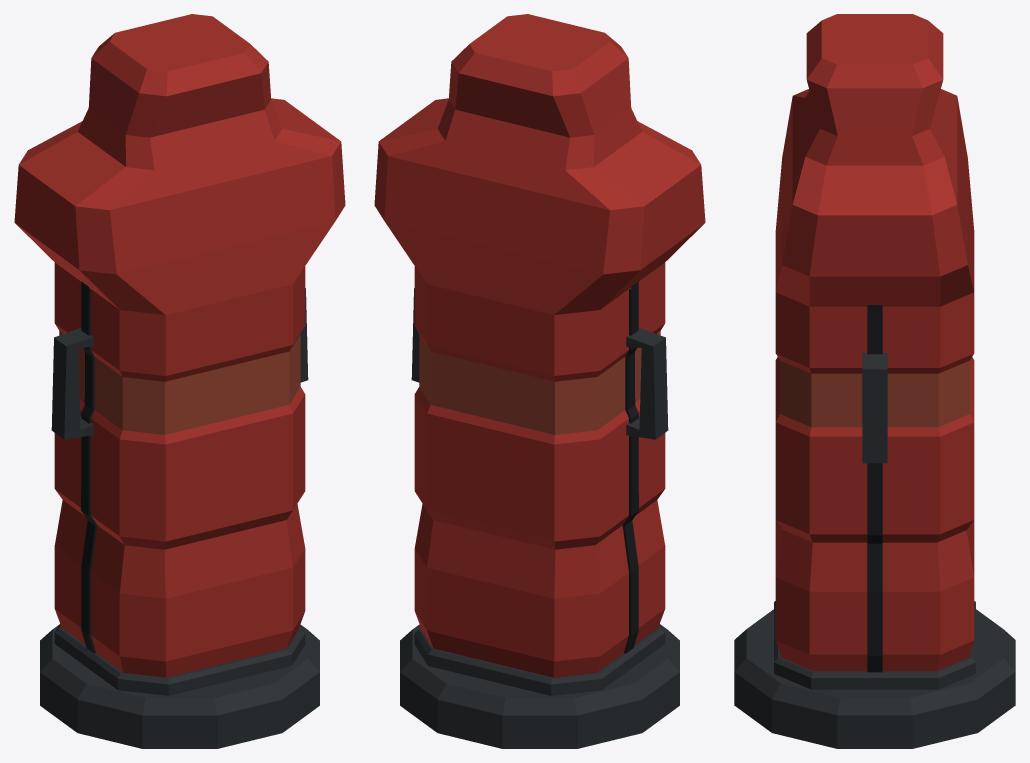
Rendered from tackle-dummy-06aba2.glb.
3 views of the same model, side by side, from view 1: azimuth 30°, elevation 25°; view 2: azimuth 150°, elevation 25°; view 3: azimuth 270°, elevation 25° (orthographic).
Visible parts, largest first — view 1: dummy-body; view 2: dummy-body; view 3: dummy-body.
Part boxes in pixels (x1,y1,x2,y2): dummy-body: (14, 14, 345, 748); dummy-body: (374, 14, 705, 748); dummy-body: (734, 14, 1015, 748).
Bounding box in the file's own units: 0.7312 × 1.7 × 0.6665.
